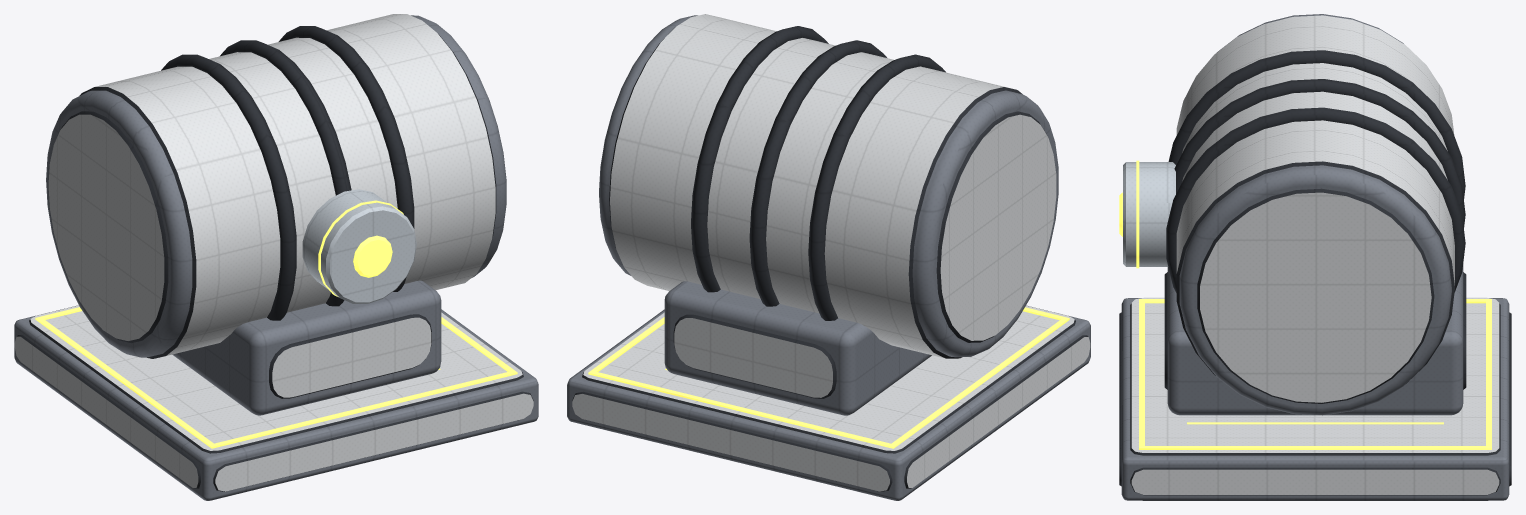
The model's file is R4X_DrivePower.glb.
3 views of the same model, side by side, from view 1: azimuth 30°, elevation 25°; view 2: azimuth 150°, elevation 25°; view 3: azimuth 270°, elevation 25° (orthographic).
Visible parts, largest first — view 1: R4X_DrivePower_Body; view 2: R4X_DrivePower_Body; view 3: R4X_DrivePower_Body.
Part boxes in pixels (bbox=[...]): R4X_DrivePower_Body: bbox=[14, 14, 538, 500]; R4X_DrivePower_Body: bbox=[567, 14, 1090, 500]; R4X_DrivePower_Body: bbox=[1119, 14, 1511, 500].
Bounding box in the file's own units: 0.52 × 0.5037 × 0.52.
5 materials, 4 textured.
